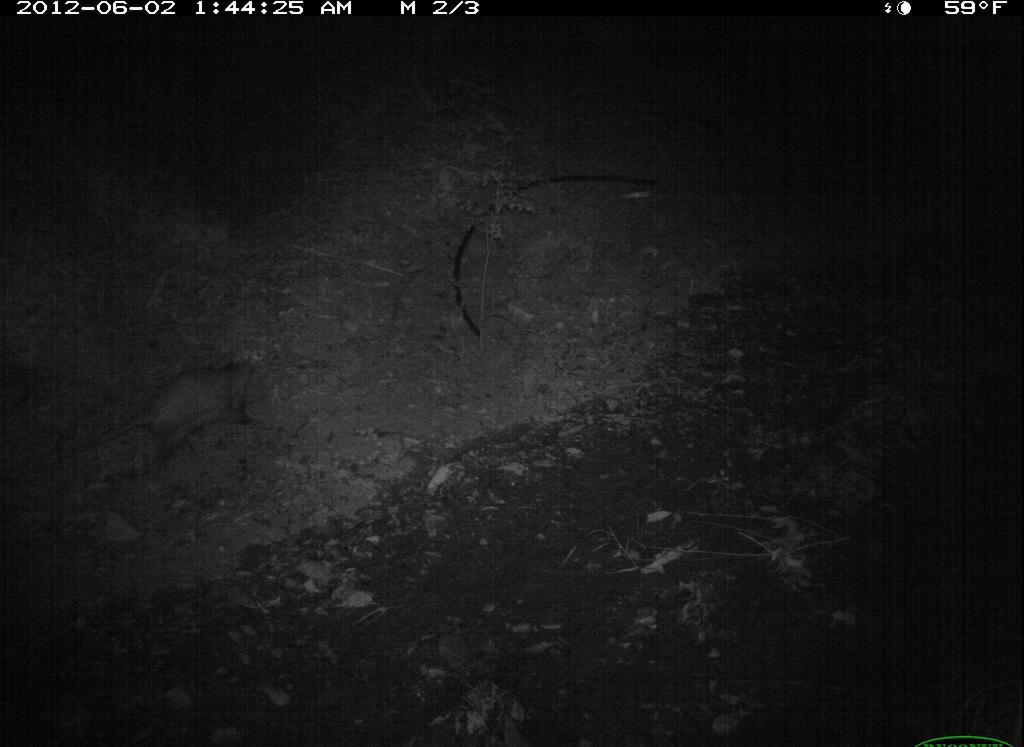opossum: (90, 351, 289, 469)
